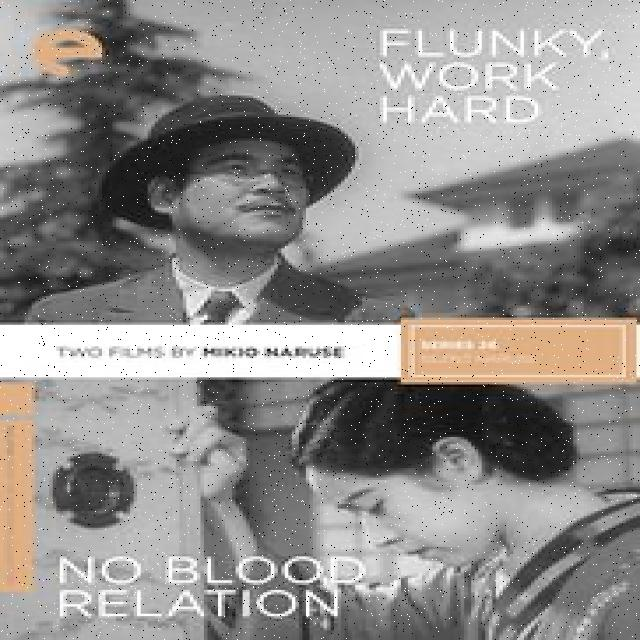movie-judul: (38, 532, 388, 630), (352, 13, 618, 132)
picture: (11, 15, 632, 632)
